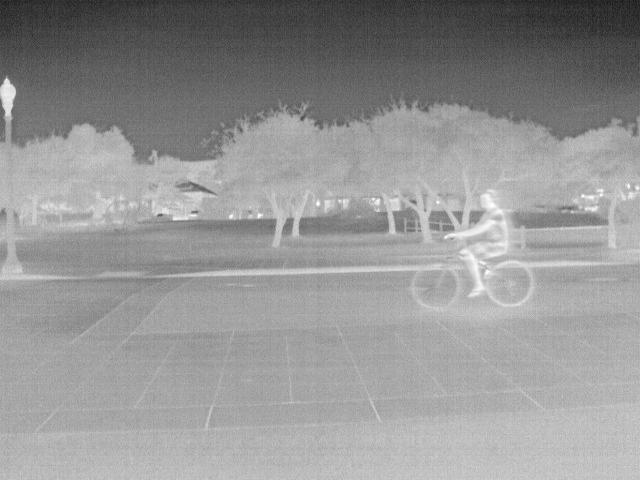person: (446, 186, 511, 300)
